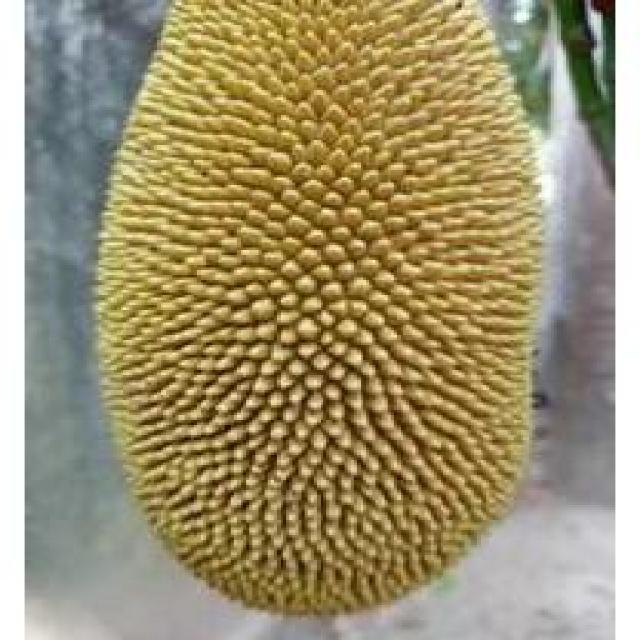Fruit: (58, 0, 430, 472), (231, 282, 578, 638), (209, 0, 591, 320)
